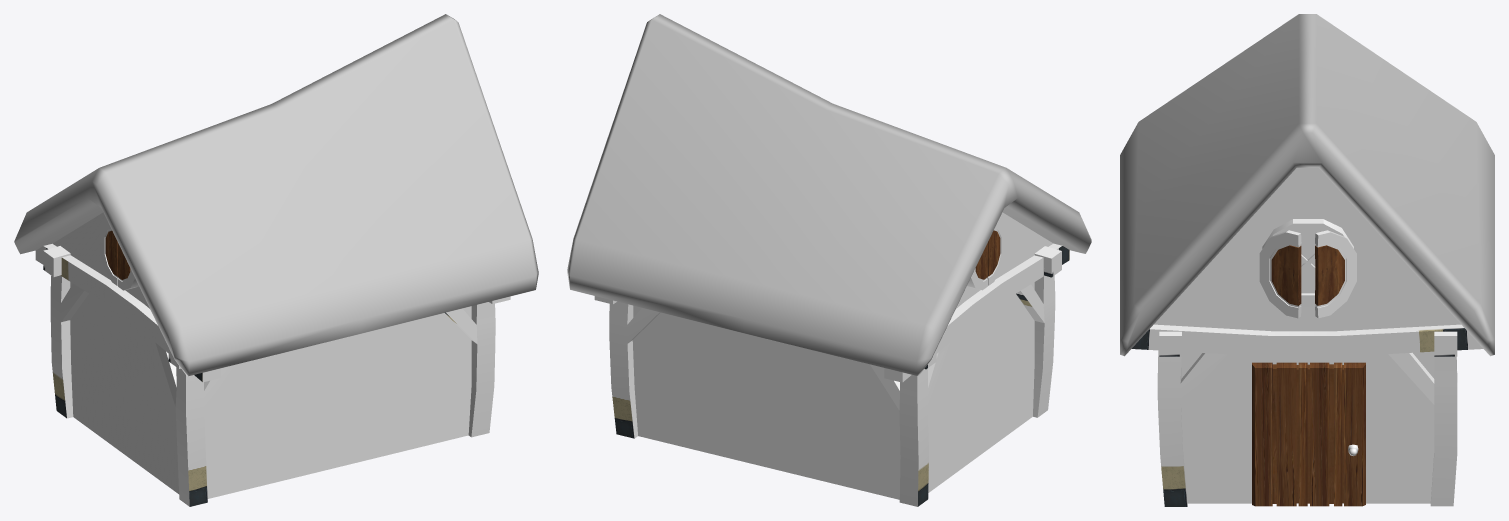
Rendered from House_1.fbx.
The picture shows the model from 3 angles, left to right: view 1: azimuth 30°, elevation 25°; view 2: azimuth 150°, elevation 25°; view 3: azimuth 270°, elevation 25°; orthographic projection. The views are drawn at different scales.
Parts seen in each view (by area): view 1: House_1; view 2: House_1; view 3: House_1.
Boxes of the visible parts, left/top/right/bottom form: House_1: left=14, top=14, right=538, bottom=506; House_1: left=567, top=14, right=1091, bottom=506; House_1: left=1120, top=14, right=1494, bottom=506.
Bounding box in the file's own units: 500 × 478 × 409.
